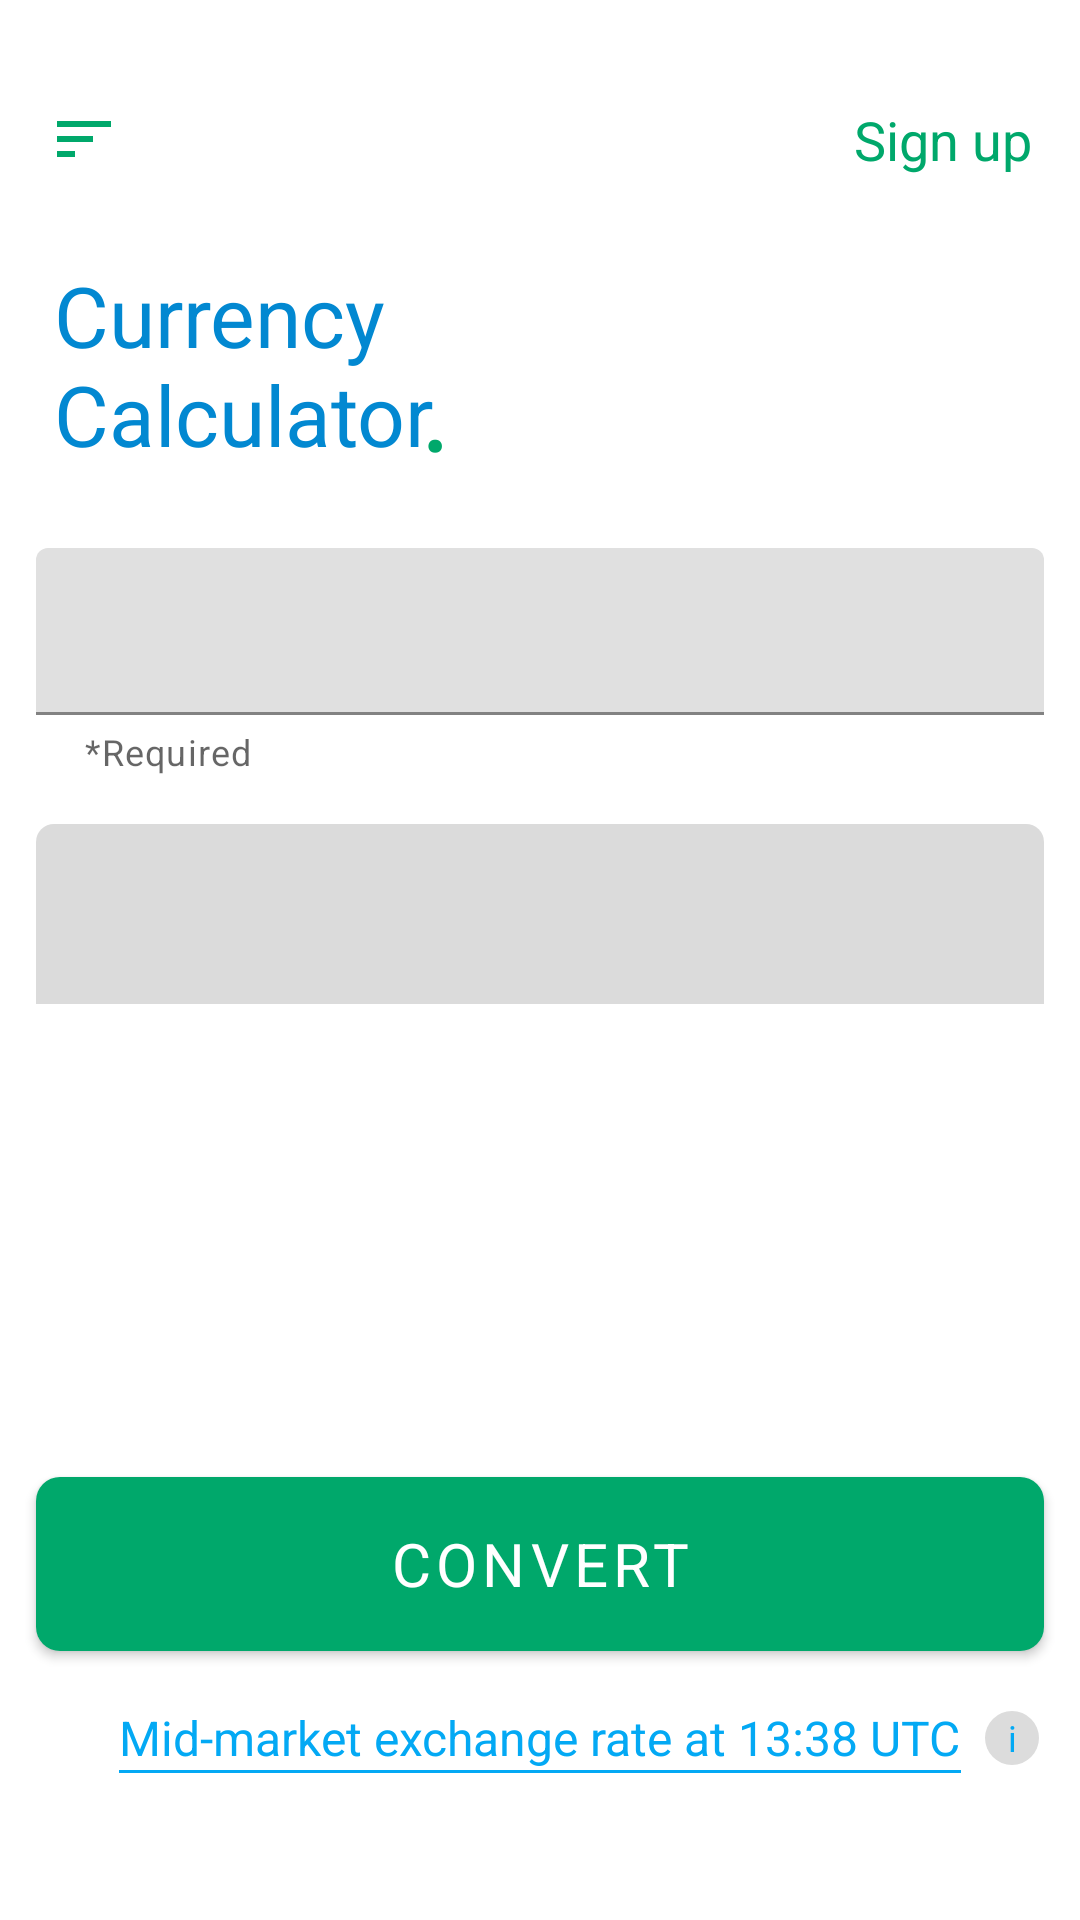

Screen size 1080×1920. Icon name, then its center in pixels as [x,y]:
Sort Icon: [84,139]
